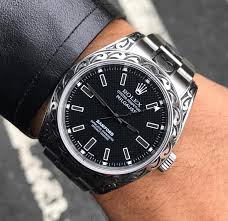clock: (64, 64, 169, 169)
